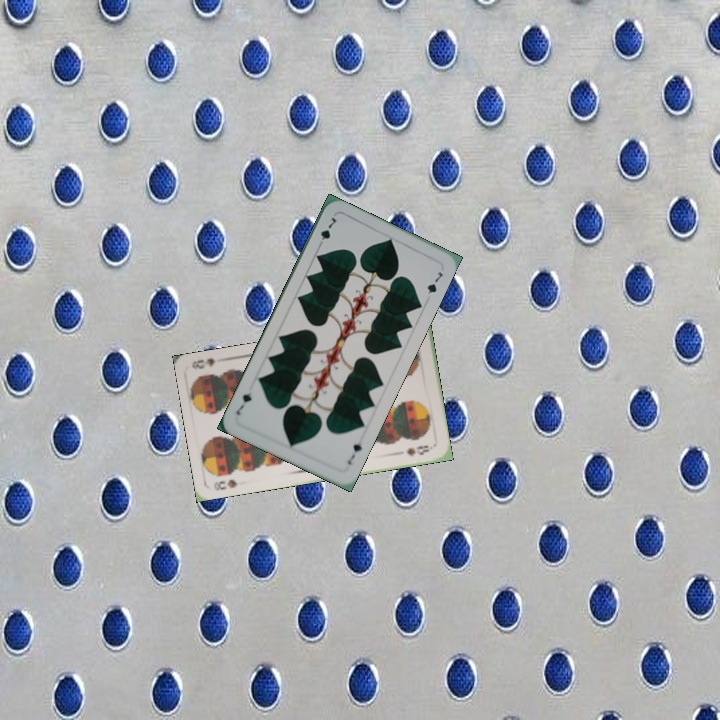G7: (314, 213, 339, 250), (343, 439, 365, 468)
S8: (209, 475, 240, 493)
